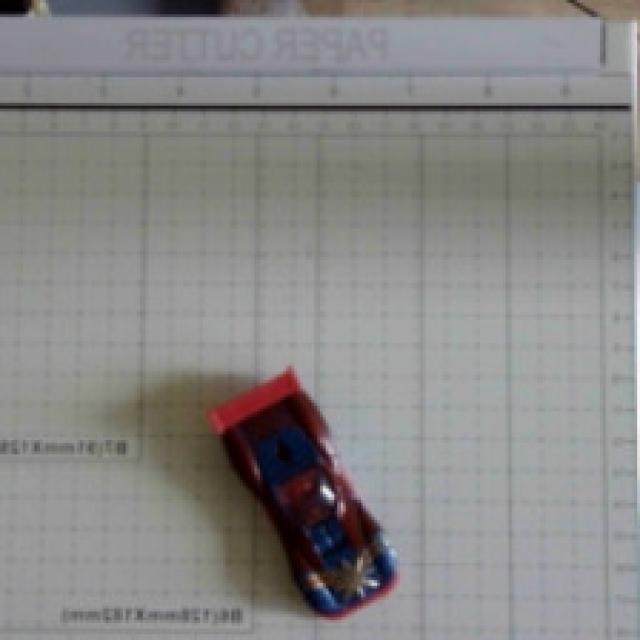Red Car: (179, 339, 450, 629)
